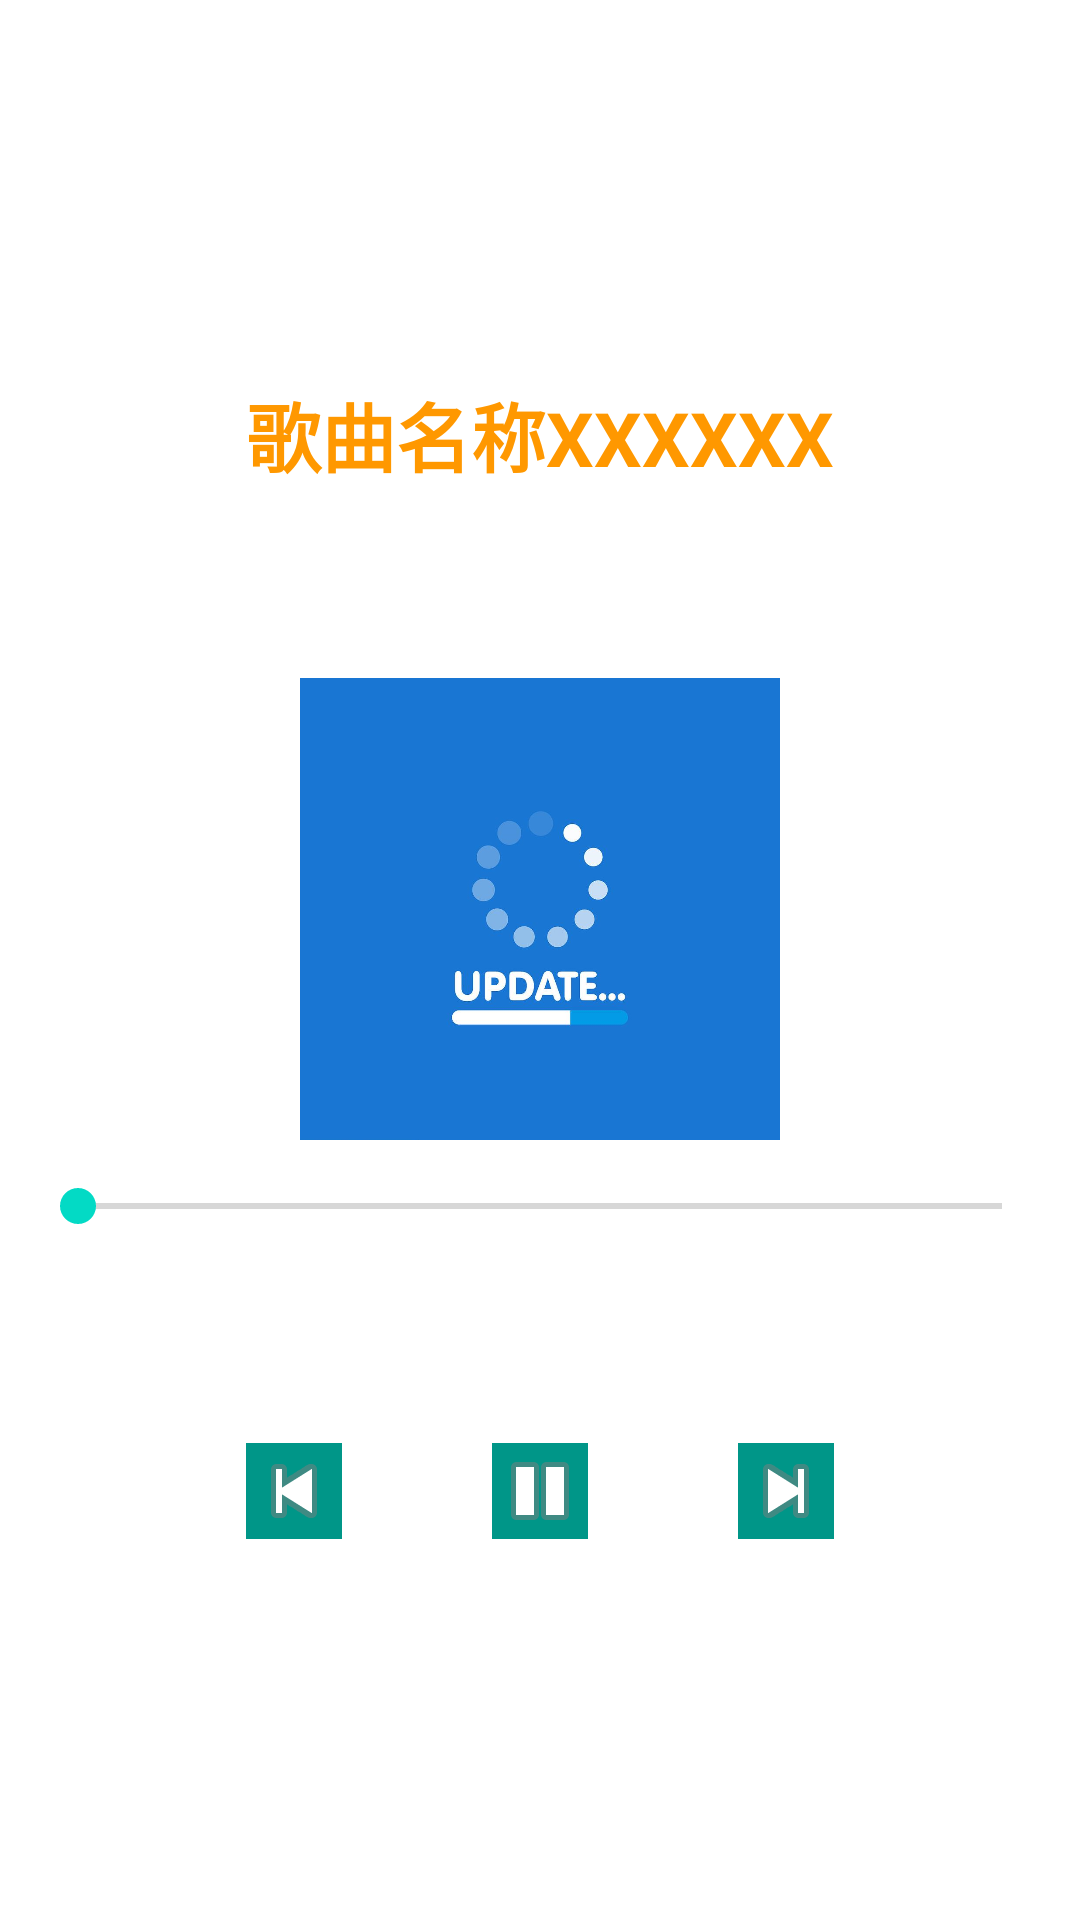

Named icons in this screenshot (1080x1920) and their bounding boxes, (x1, y1, x2, y2):
next: (738, 1443, 834, 1539)
pause: (492, 1443, 588, 1539)
previous: (246, 1443, 342, 1539)
